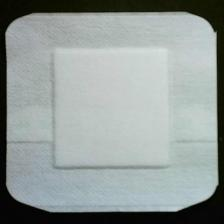Dressing: (4, 12, 221, 215)
